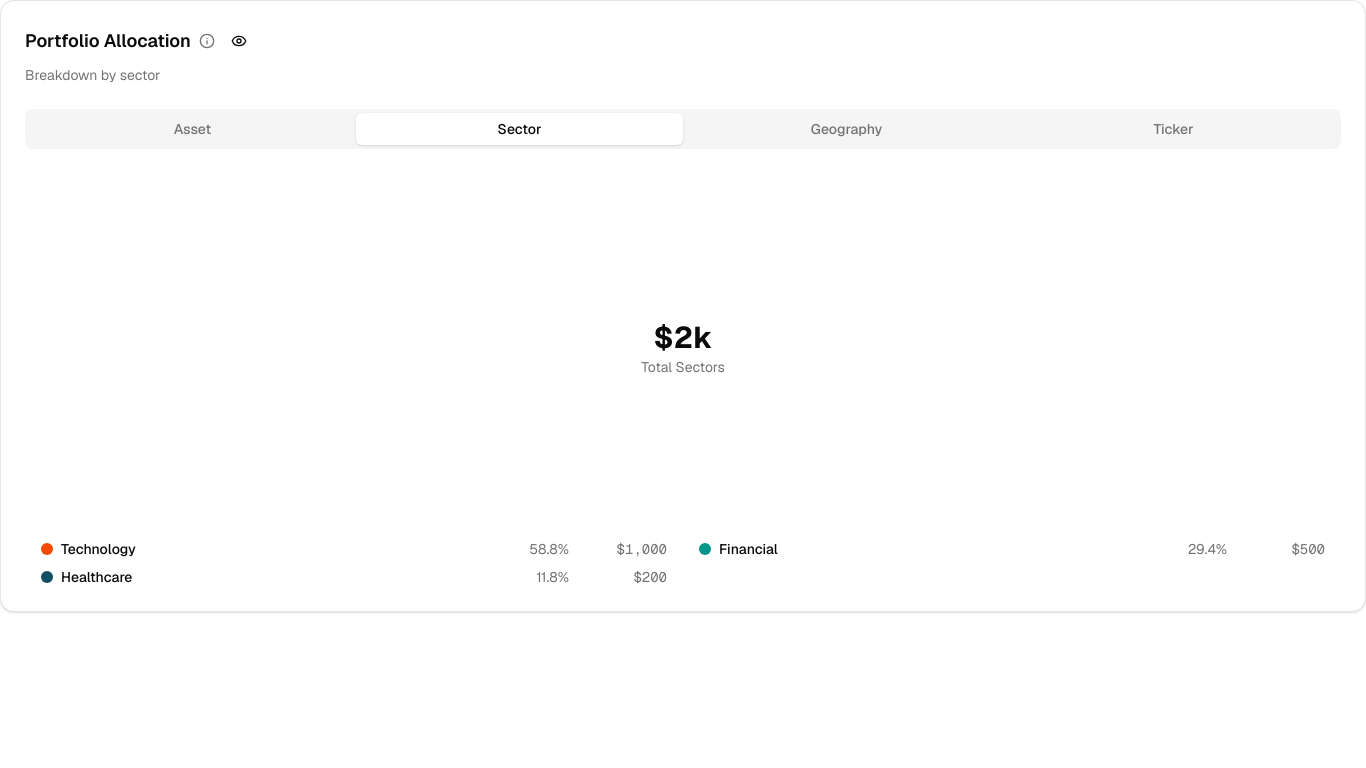
Scenario: CategoriesCard › switches tabs correctly
The image size is (1366, 768).
Click the button "Asset" at [192, 129], box [29,113,356,145]
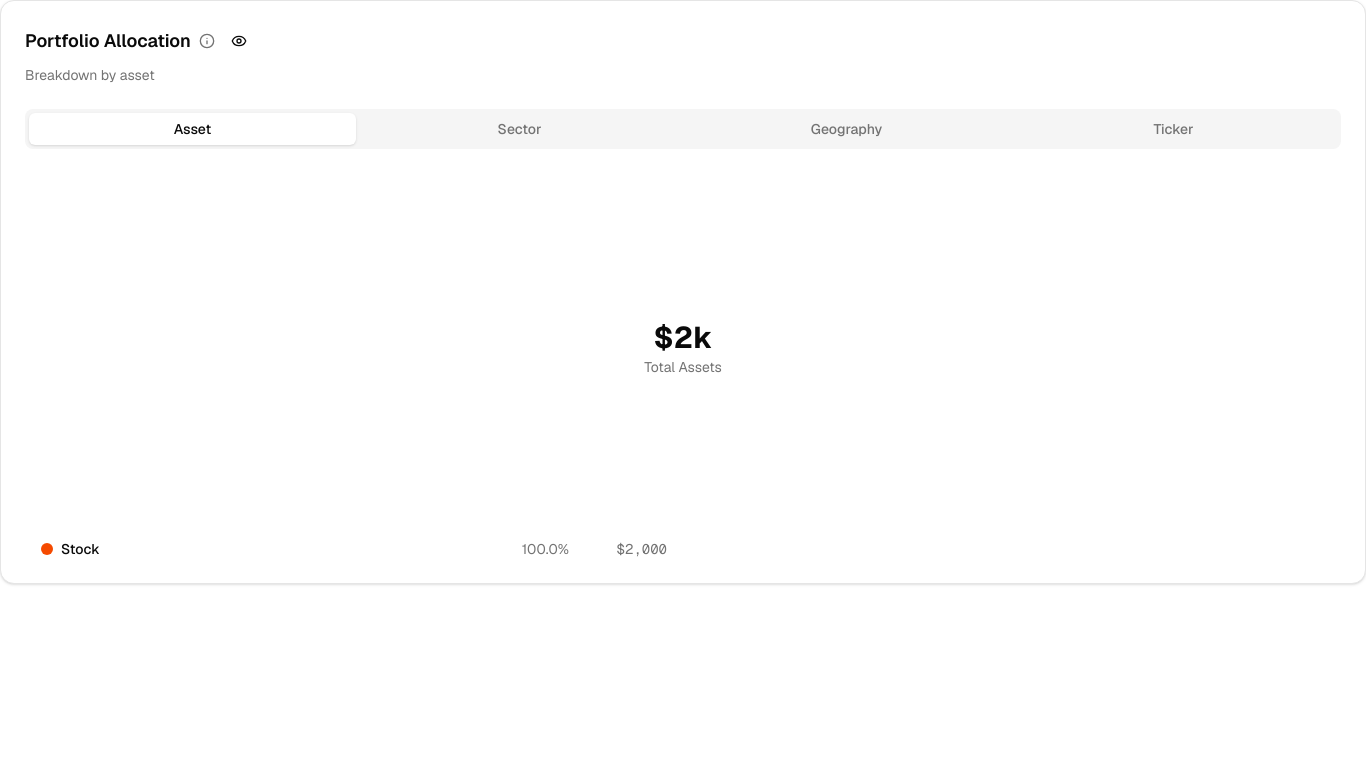
Result: the text "Breakdown by asset" is shown at [25,66,155,84]
Result: the text "Stock" is shown at [61,540,100,558]
Result: the text "$2,000" is shown at [617,540,667,558]
